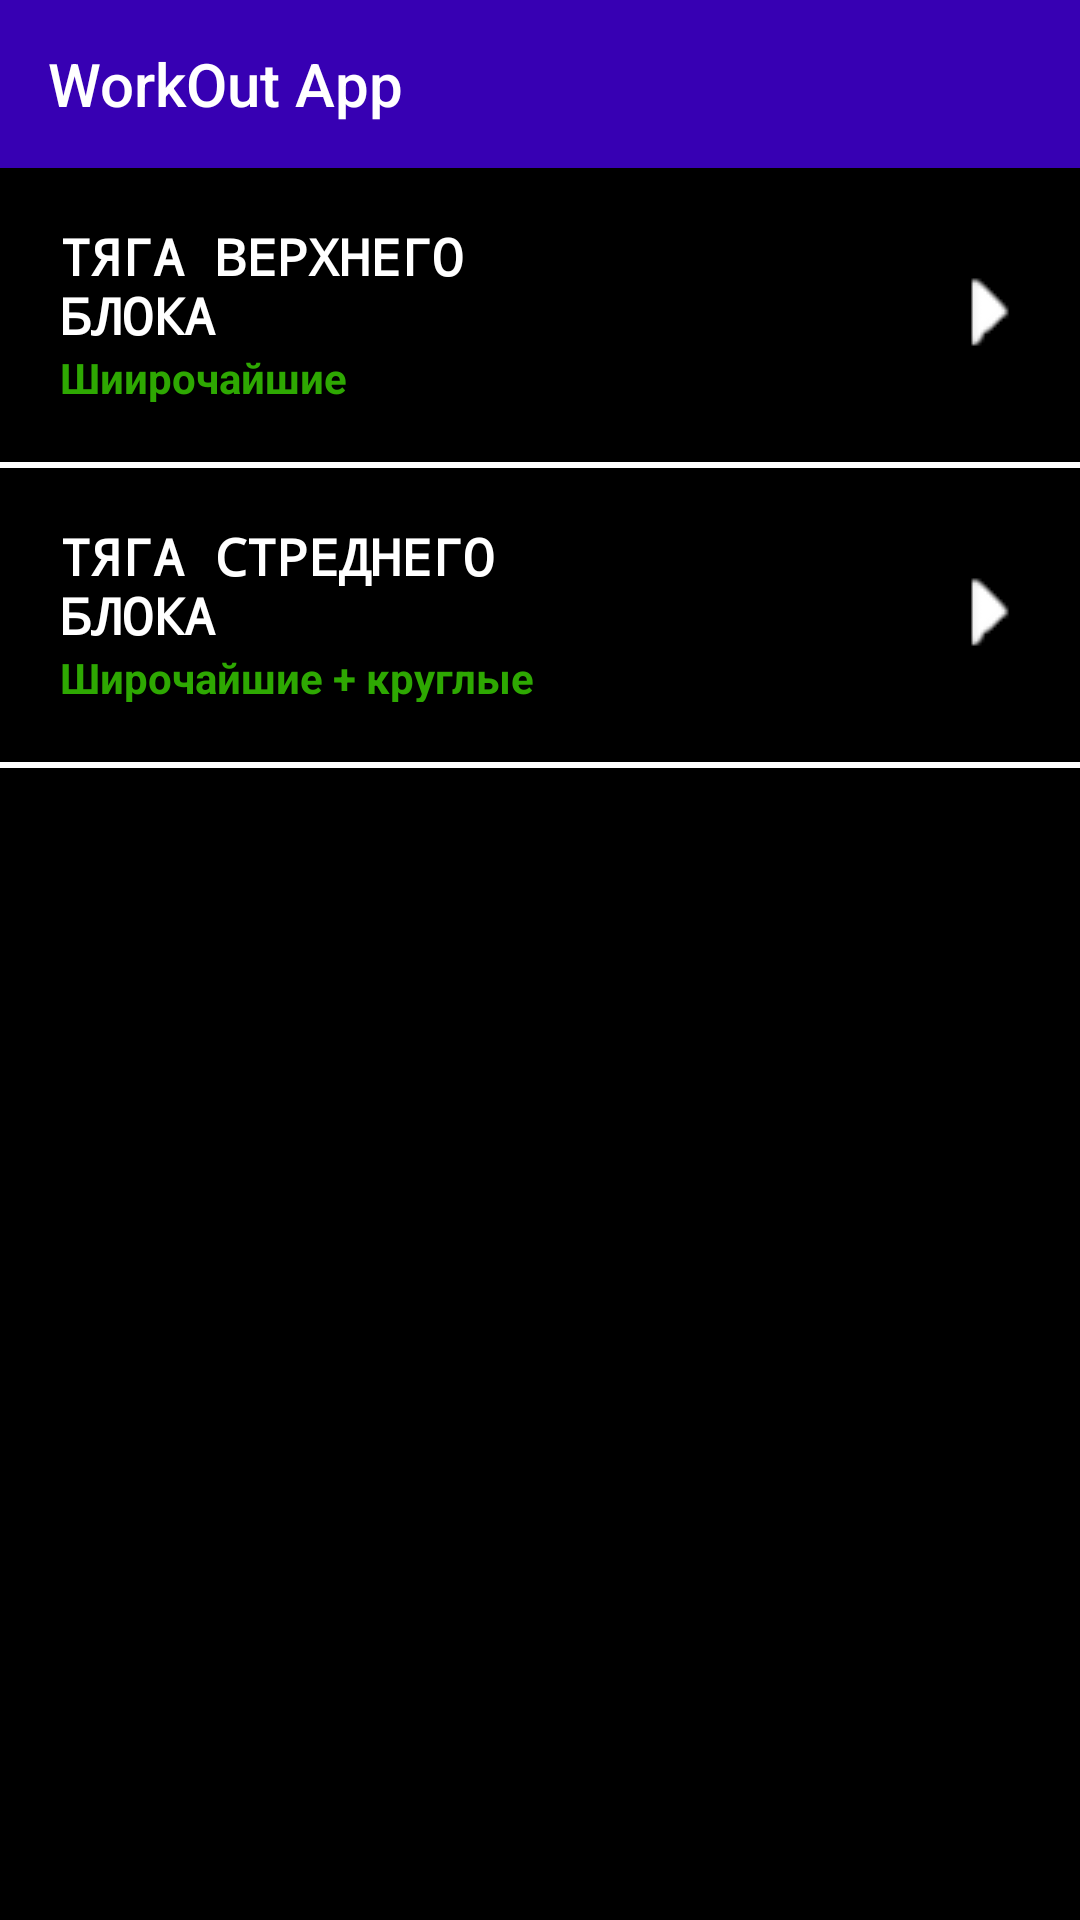

Screen size 1080w x 1920h. Icon name, then its center in pixels as point (x, y):
right arrow: point (990, 312), point (990, 612)
